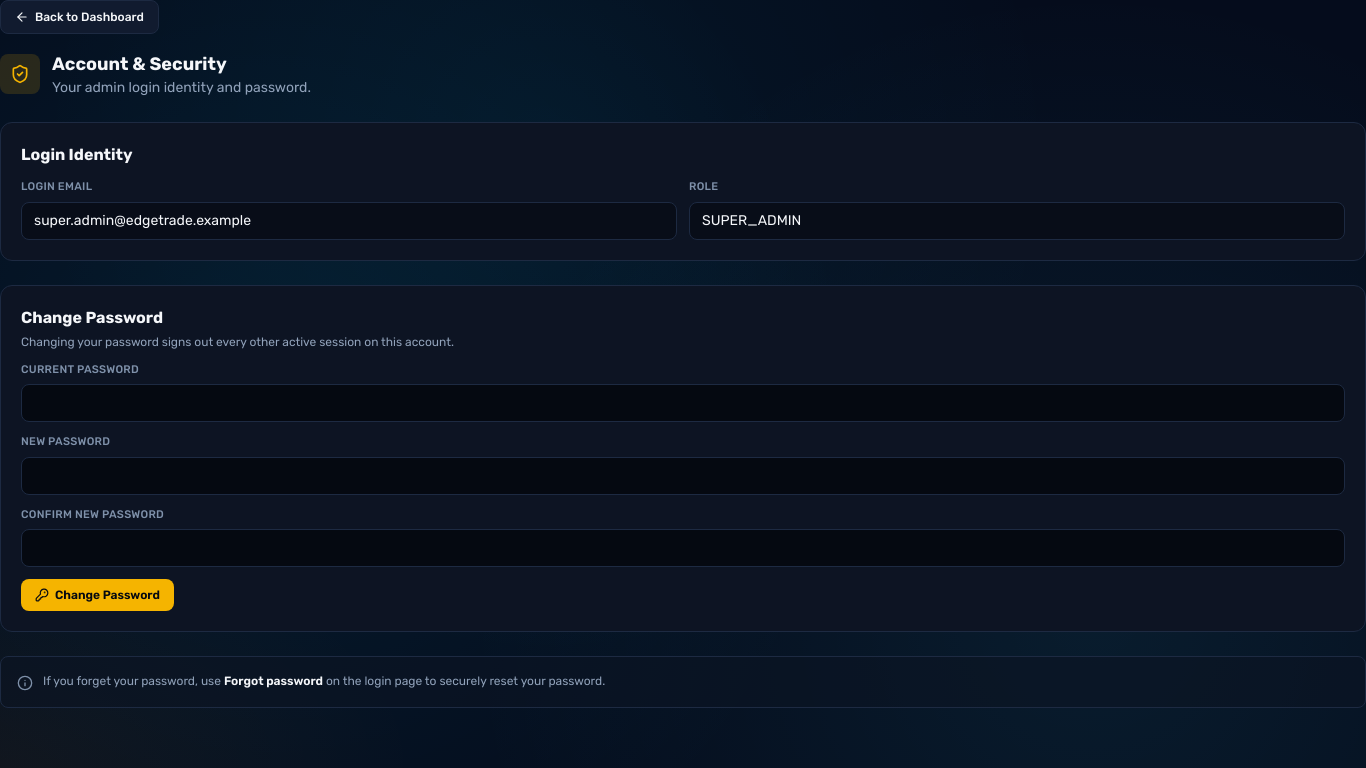
Test case: AdminAccountPage › surfaces the backend error (e.g. wrong current password) via toast and does not clear the form
The image size is (1366, 768).
Type "wrongpassword" into the password field labelled "Current Password" at (683, 403), box [21,384,1345,422]
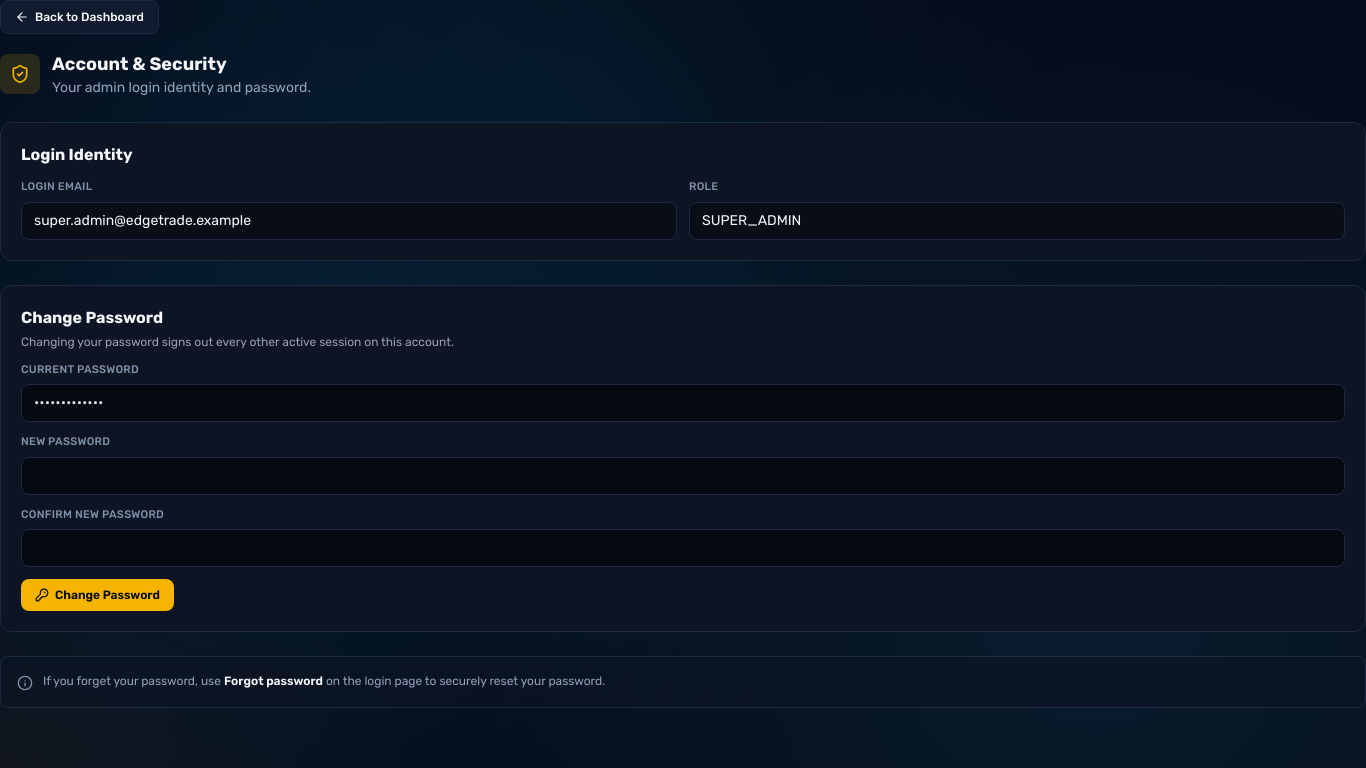
Type "newpassword123" into the password field labelled "New Password" at (683, 476), box [21,456,1345,494]
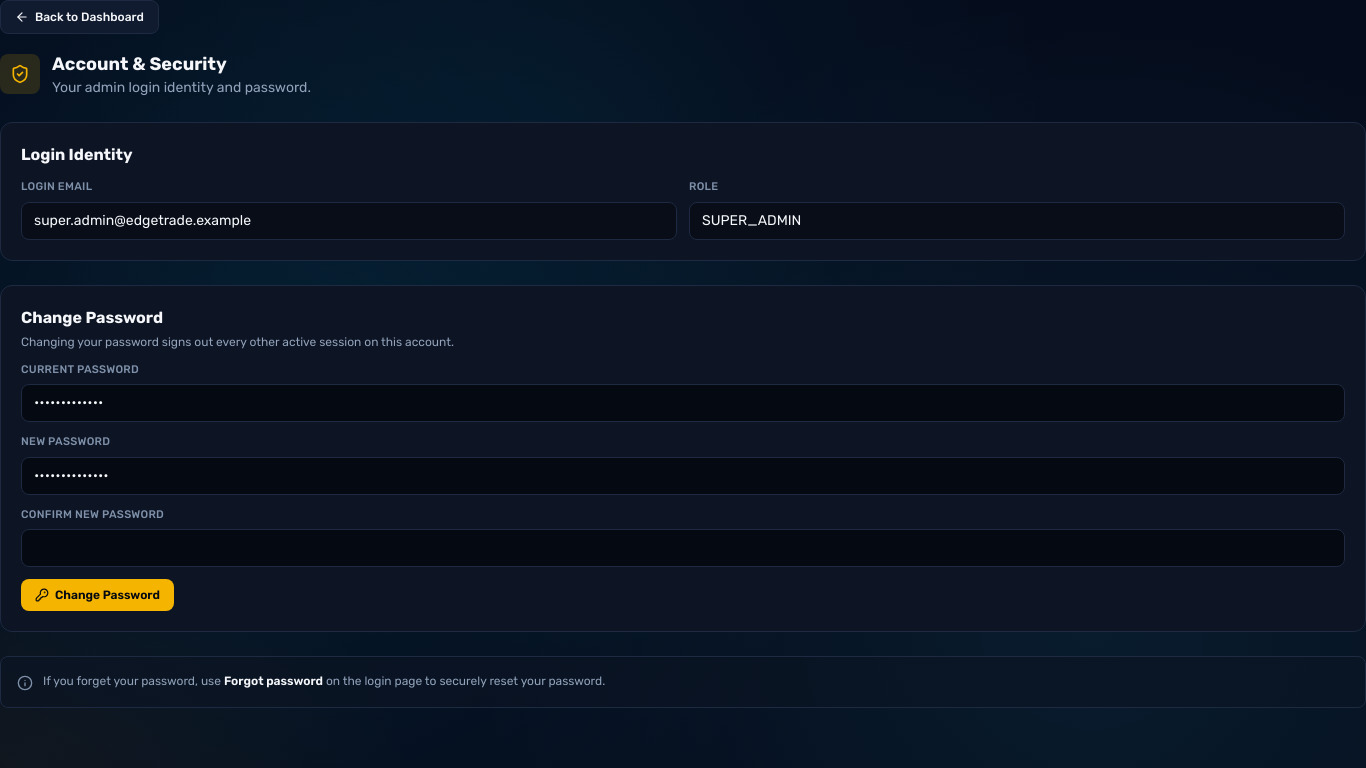
Type "newpassword123" into the password field labelled "Confirm New Password" at (683, 548), box [21,529,1345,567]
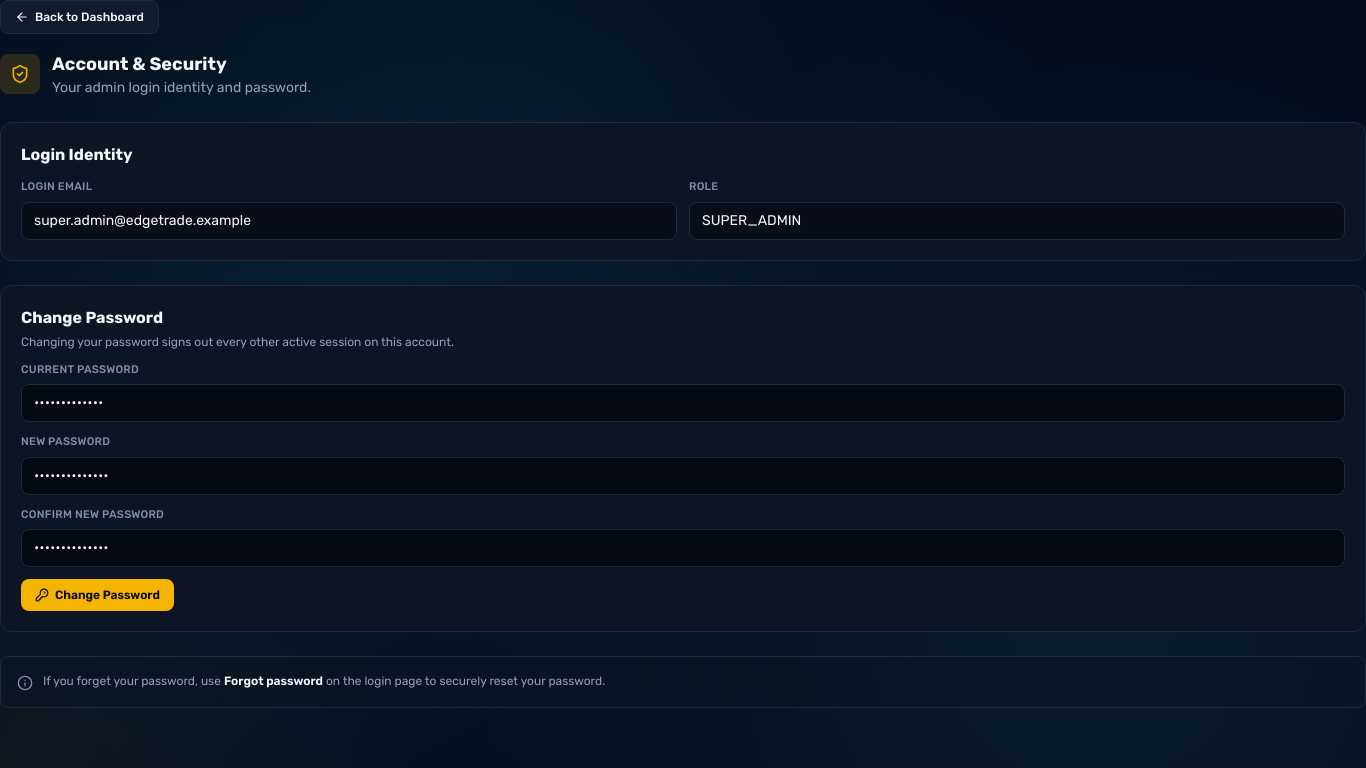
Click the button "Change Password" at (98, 595), box [21,579,174,611]
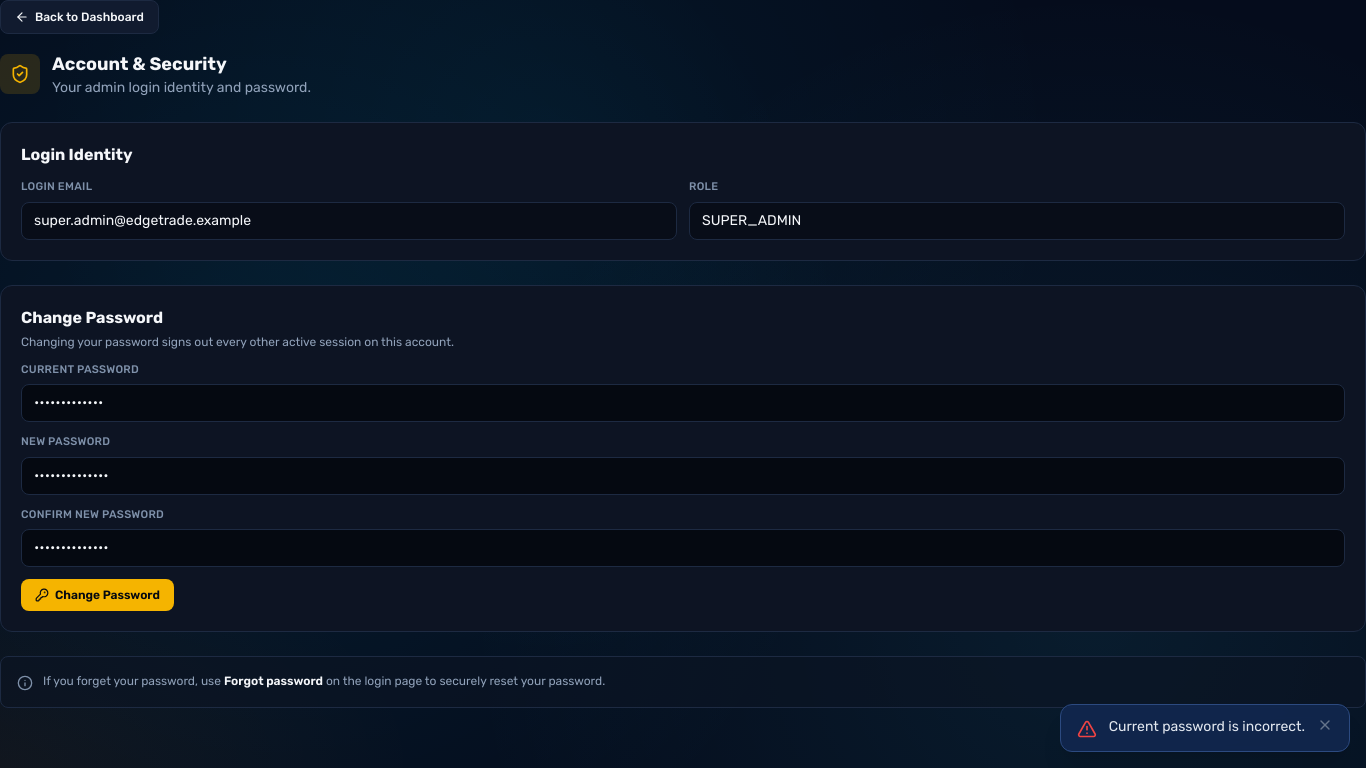
Result: the text "Current password is incorrect." is shown at [1109,717,1305,737]
